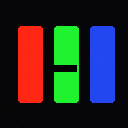3 line_h: (50, 65, 76, 71)
